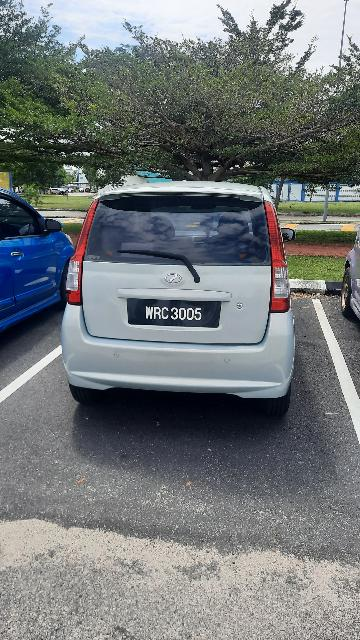License_Plate: (126, 295, 226, 334)
car: (59, 181, 300, 421)
